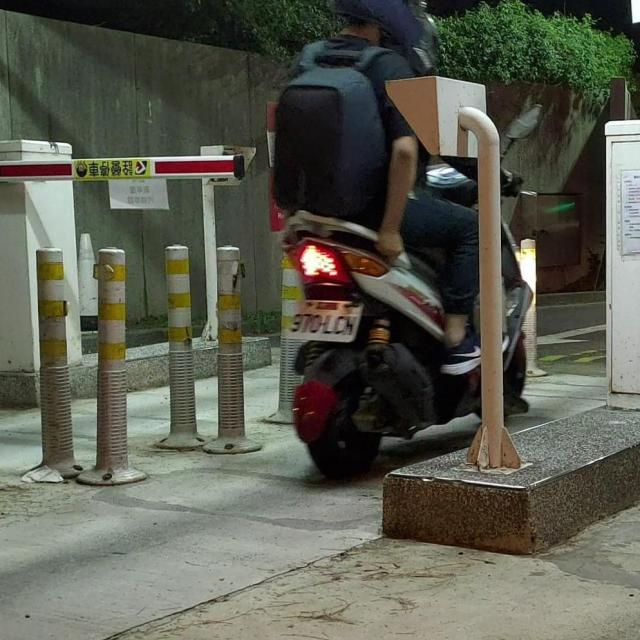W: (286, 299, 362, 342)
